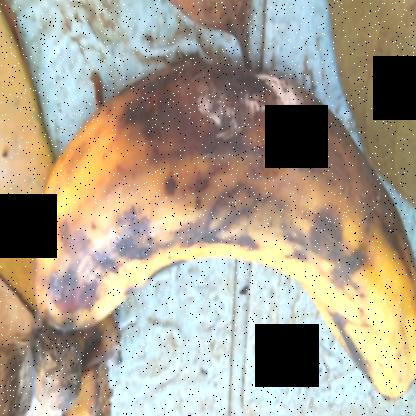rotten: (32, 32, 415, 406)
